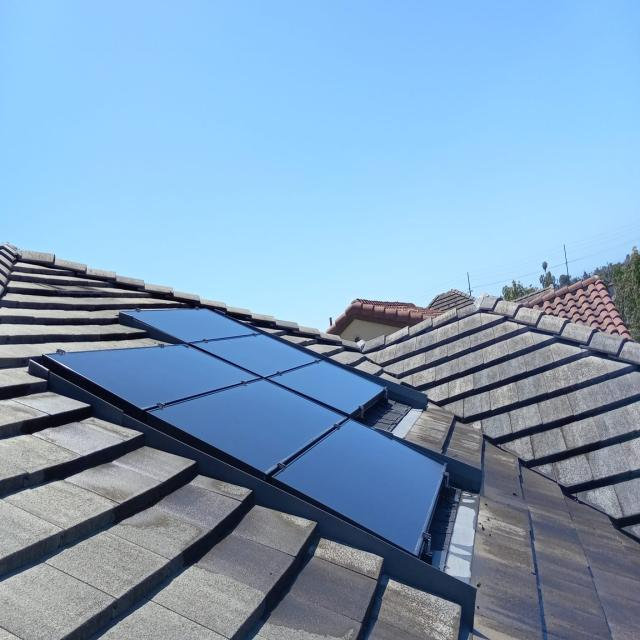clean-solar-panel: (45, 309, 445, 558)
